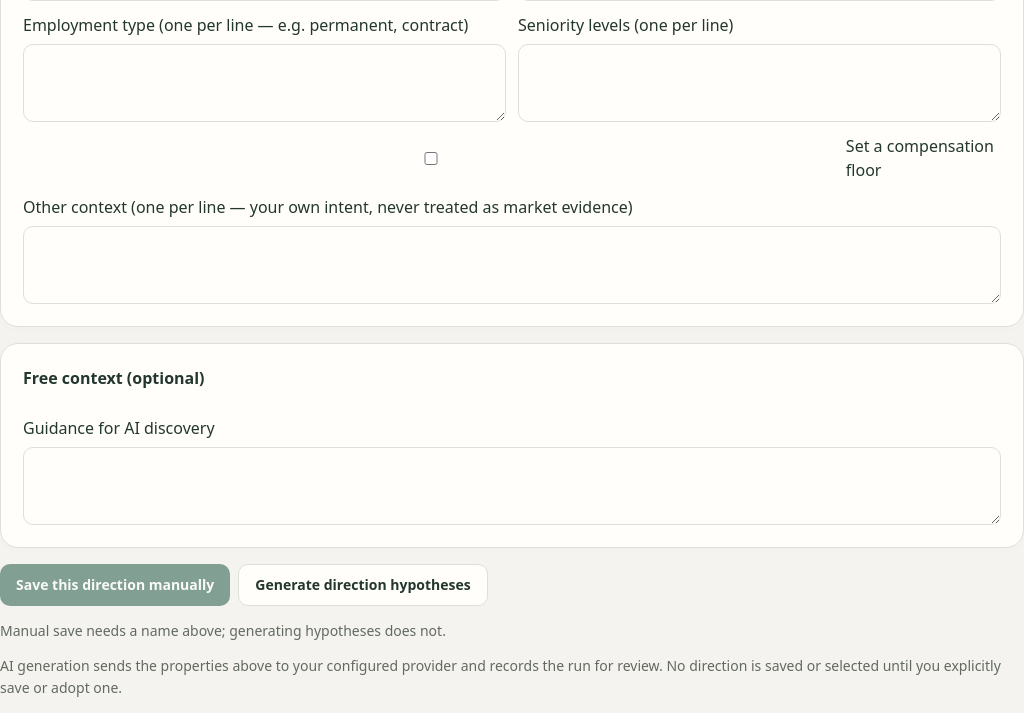
Test: Career Direction builder — AI discovery › shows "no comparable compensation evidence" when compensation_context is null
(page scrolled)
Click the button "Generate direction hypotheses" at (363, 585), box [238,564,488,606]
(page scrolled)
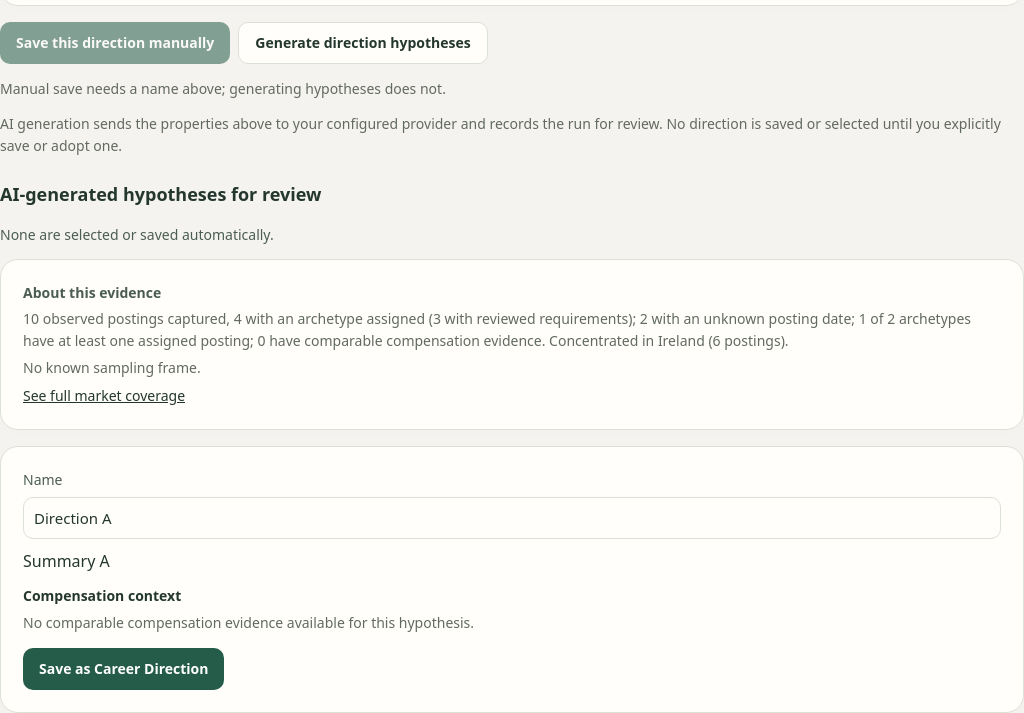
Expected: the text "No comparable compensation evidence available for this hypothesis." is shown, [23,613,474,632]
